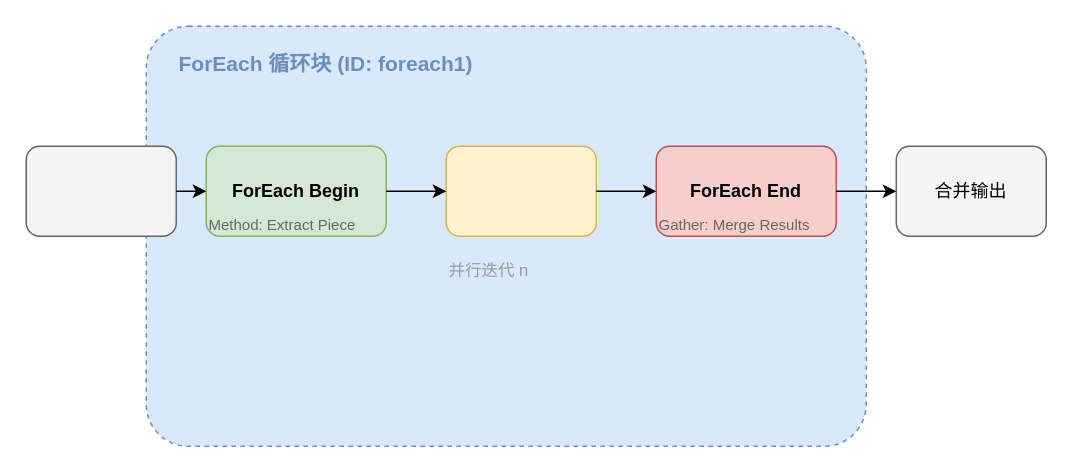
Image size: 1073x473. Some labels were removed from this diagram. Here are the shapes that lost their labels. From the top down, the centre of each, then its label:
At point (100, 190): "输入几何体".
At point (520, 190): "变换 (Transform)".
